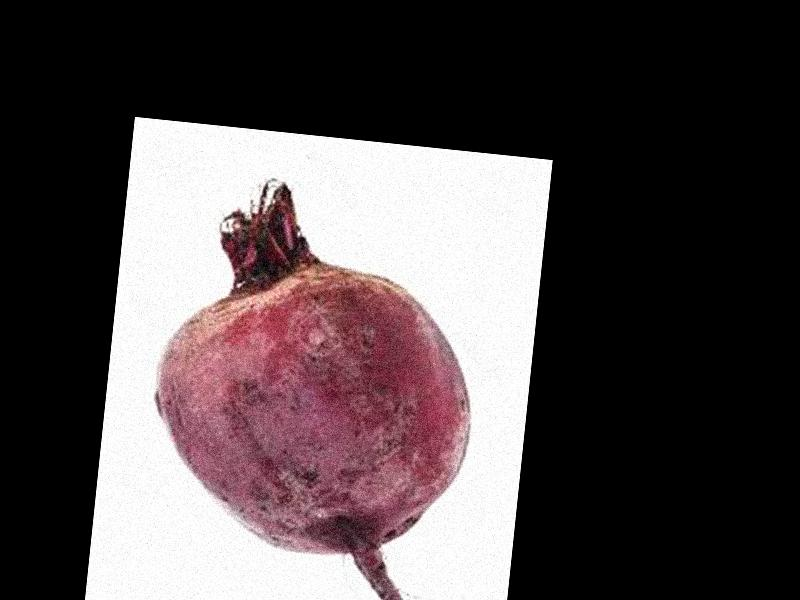Beet: (135, 173, 491, 600)
